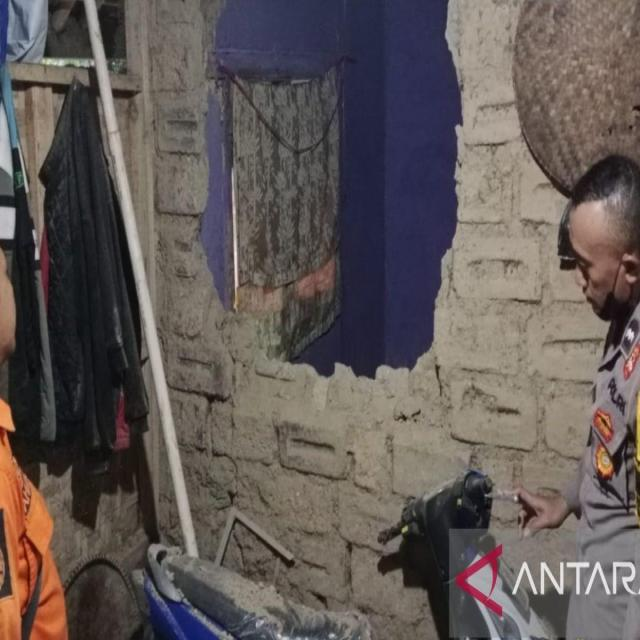damage: (176, 0, 480, 410)
